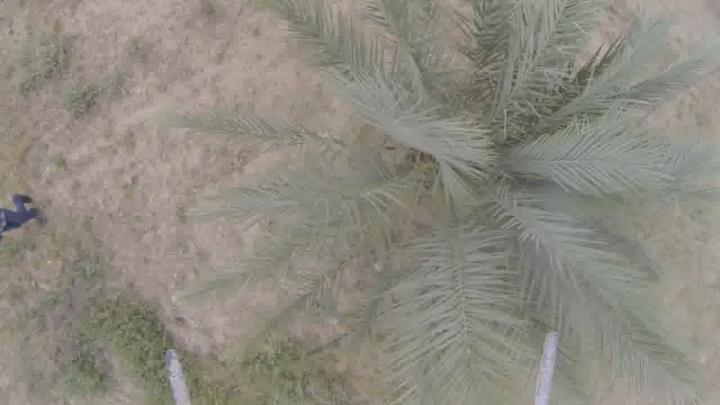Date-Palm-Crown: (334, 69, 606, 345)
